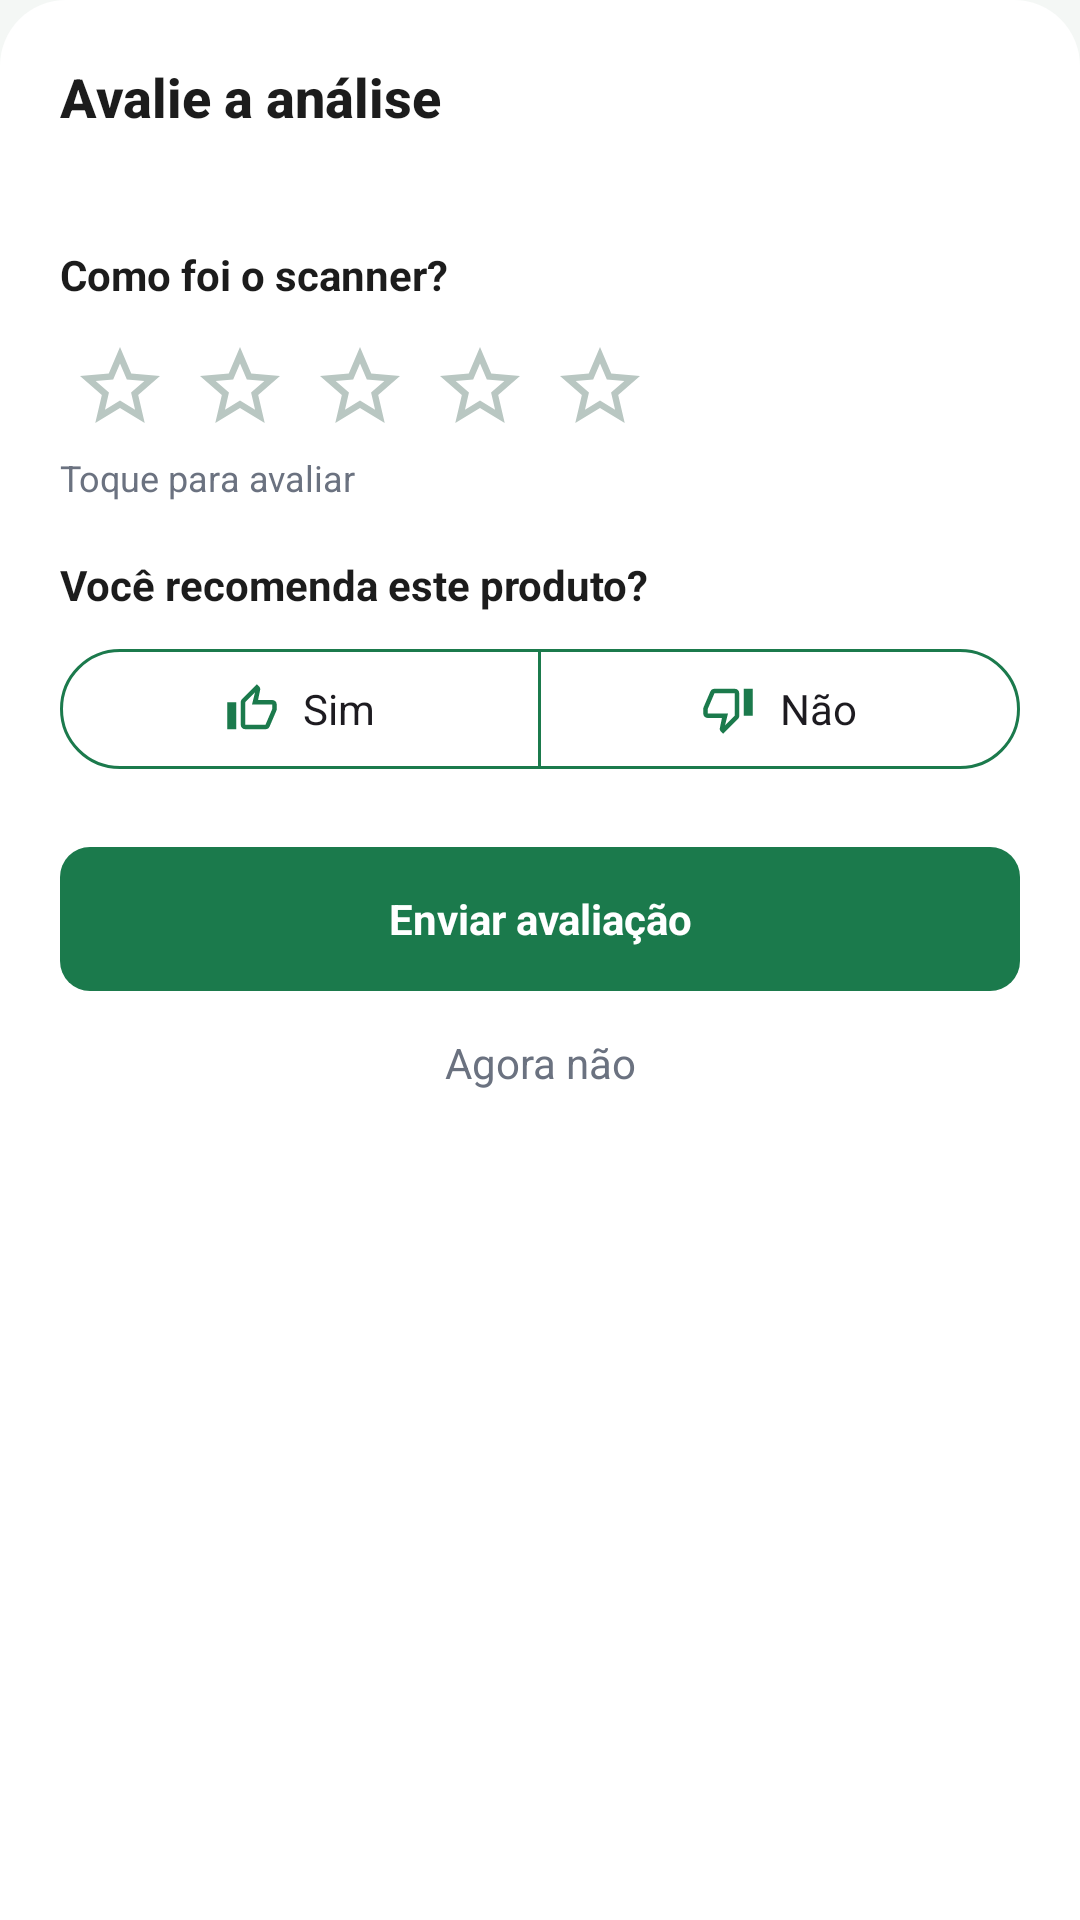

Screen size 1080w x 1920h. Icon name, then its box in pixels as [left=x1, top=y1, right=x2, bottom=y2]:
1 estrela: [left=80, top=348, right=160, bottom=423]
2 estrelas: [left=200, top=348, right=280, bottom=423]
3 estrelas: [left=320, top=348, right=400, bottom=423]
4 estrelas: [left=440, top=348, right=520, bottom=423]
5 estrelas: [left=560, top=348, right=640, bottom=423]
